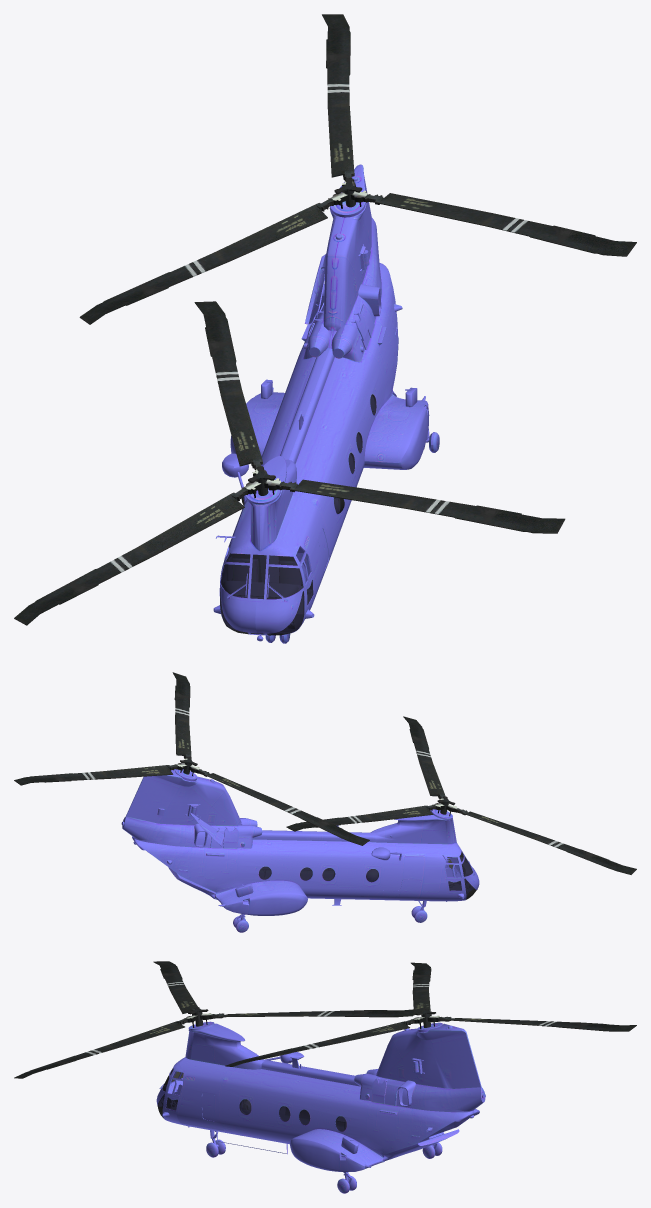
The model's file is seaknight.fbx.
3 views of the same model, one above another, from view 1: azimuth 30°, elevation 25°; view 2: azimuth 150°, elevation 25°; view 3: azimuth 270°, elevation 25° (orthographic). The views are drawn at different scales.
Parts seen in each view (by area): view 1: chassis01, static_rotor03, static_rotor04, INT01, glass01; view 2: chassis01, static_rotor04, static_rotor03, INT01, glass01, mini01, d01; view 3: chassis01, static_rotor03, static_rotor04, INT01, glass01, back01.
Boxes of the visible parts, left/top/right/bottom form: chassis01: left=219, top=164, right=429, bottom=635; static_rotor03: left=14, top=301, right=565, bottom=625; static_rotor04: left=79, top=14, right=636, bottom=324; INT01: left=213, top=175, right=426, bottom=641; glass01: left=220, top=394, right=376, bottom=635; chassis01: left=122, top=769, right=479, bottom=915; static_rotor04: left=14, top=672, right=369, bottom=845; static_rotor03: left=286, top=716, right=636, bottom=874; INT01: left=121, top=779, right=475, bottom=901; glass01: left=258, top=851, right=476, bottom=899; mini01: left=157, top=808, right=426, bottom=921; d01: left=398, top=879, right=422, bottom=898; chassis01: left=156, top=1022, right=485, bottom=1172; static_rotor03: left=14, top=961, right=413, bottom=1078; static_rotor04: left=225, top=962, right=636, bottom=1066; INT01: left=159, top=1021, right=485, bottom=1167; glass01: left=157, top=1068, right=346, bottom=1131; back01: left=382, top=1129, right=459, bottom=1161.
Bounding box in the file's own units: 756 × 367 × 832.
